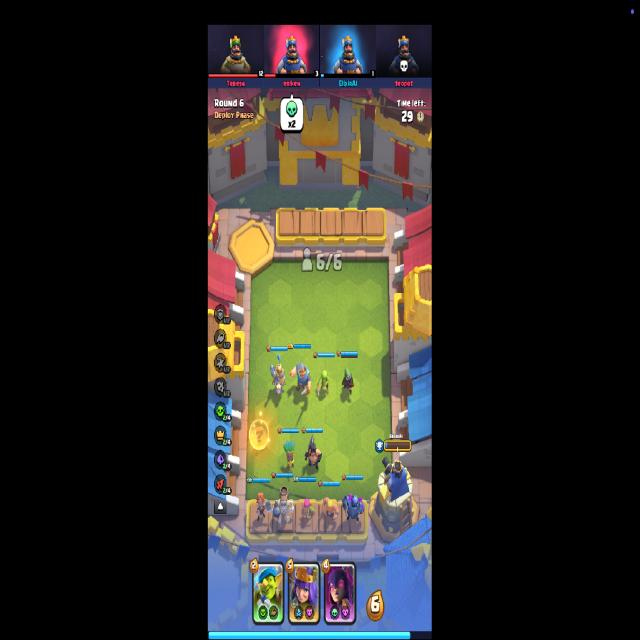archer: (301, 499, 314, 526)
bandit: (342, 369, 354, 395)
barbarian: (322, 496, 339, 526)
card_archer_queen: (287, 560, 320, 625)
card_spear_goblin: (251, 560, 284, 628)
card_witch: (323, 560, 356, 624)
dart_goblin: (283, 440, 295, 470)
executioner: (304, 436, 322, 473)
giant_skeleton: (272, 486, 294, 526)
goblin: (316, 369, 331, 397)
knight: (288, 362, 312, 398)
pekka: (342, 494, 366, 524)
prince: (270, 355, 287, 397)
valkyrie: (255, 494, 271, 524)
